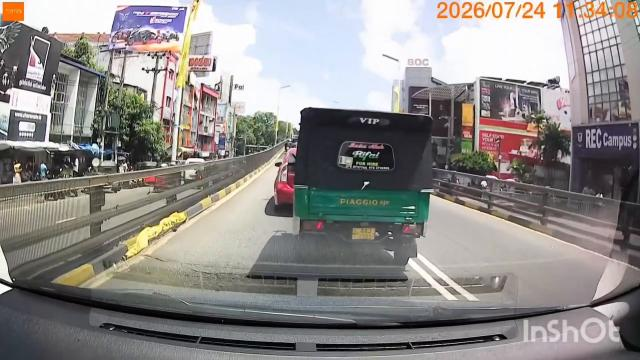number plate: (350, 226, 381, 246)
